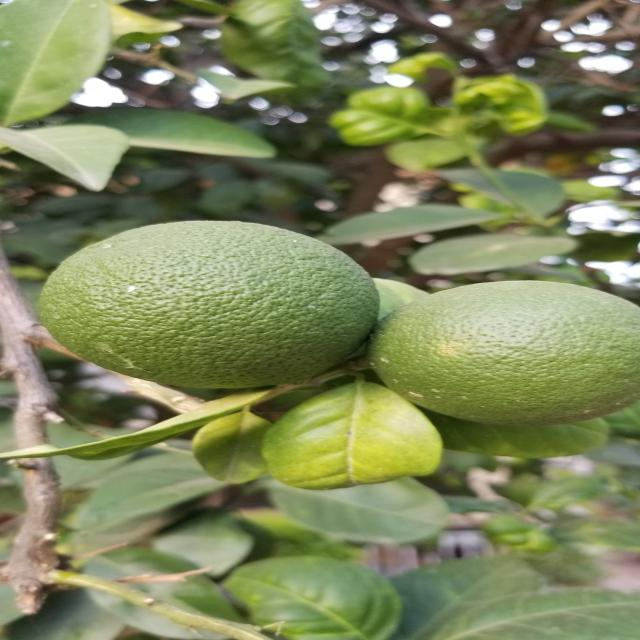Unripe: (29, 219, 398, 391), (385, 278, 640, 424)
